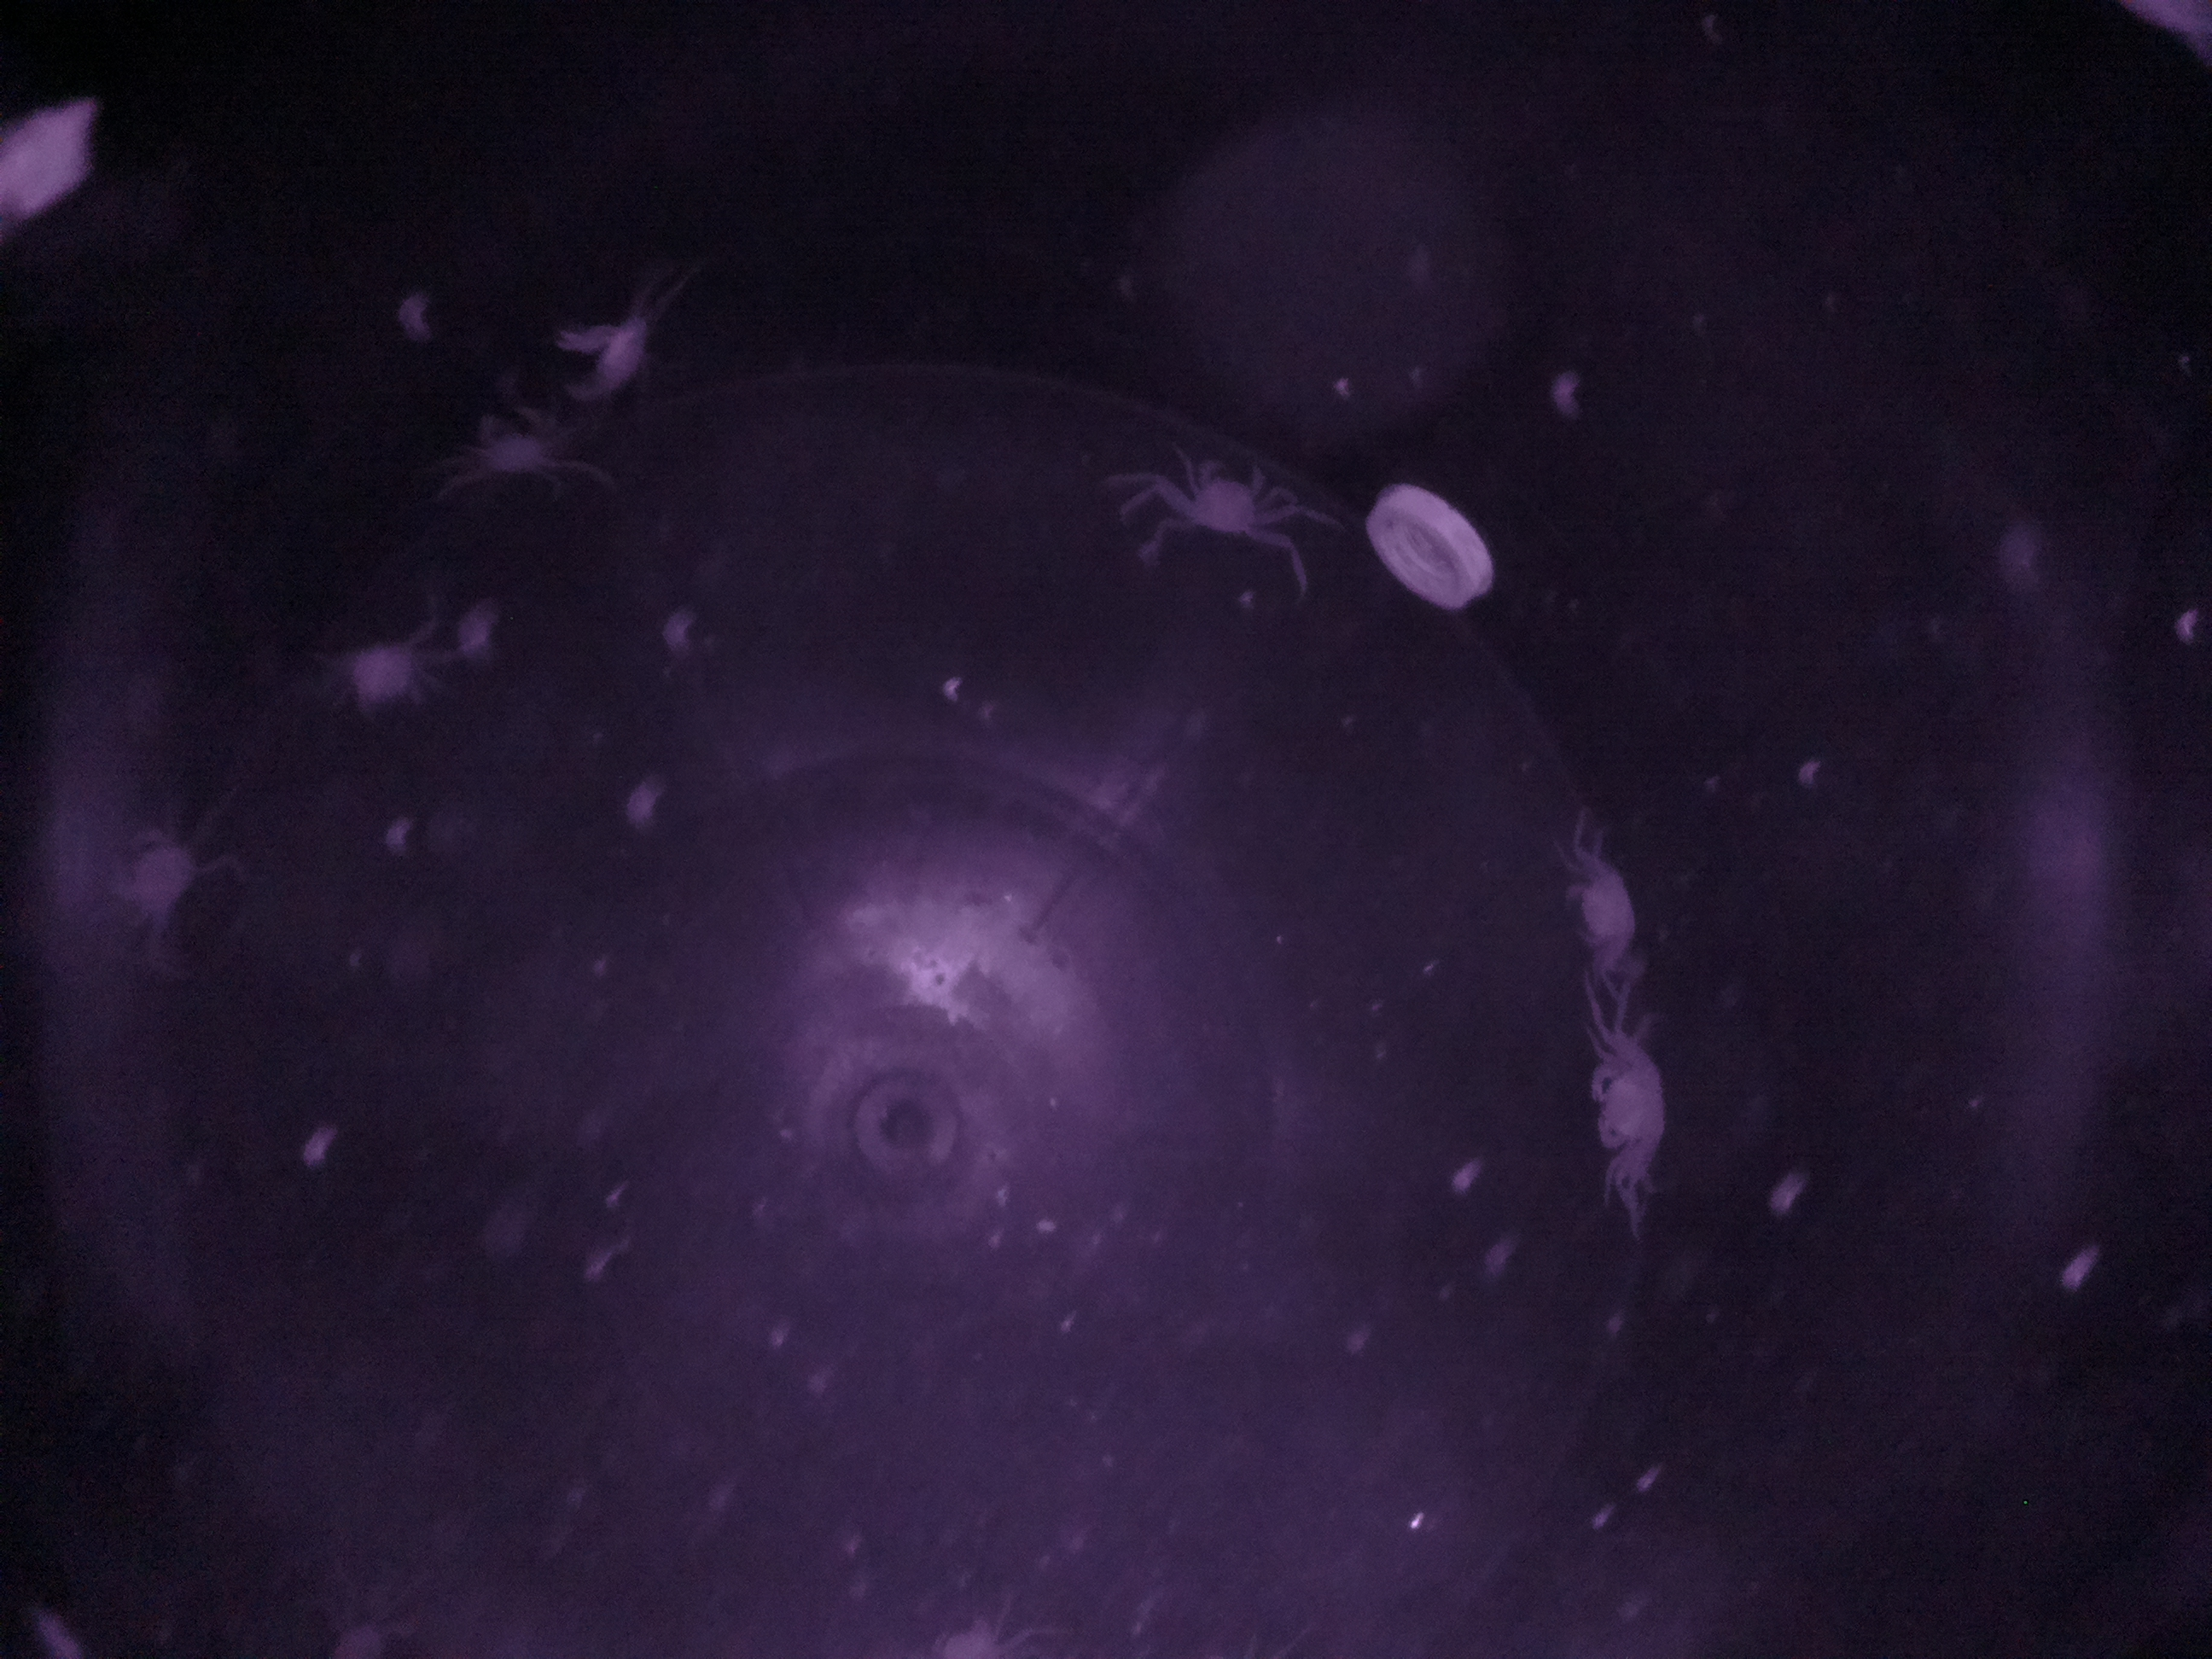Crab: (1571, 1032, 1696, 1166), (1183, 427, 1289, 573)
